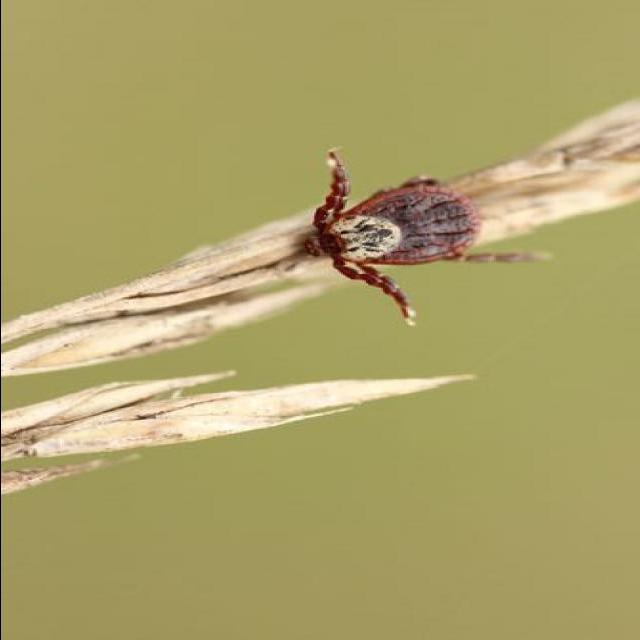Dermacentor Reticulatus-F: (300, 150, 550, 325)
